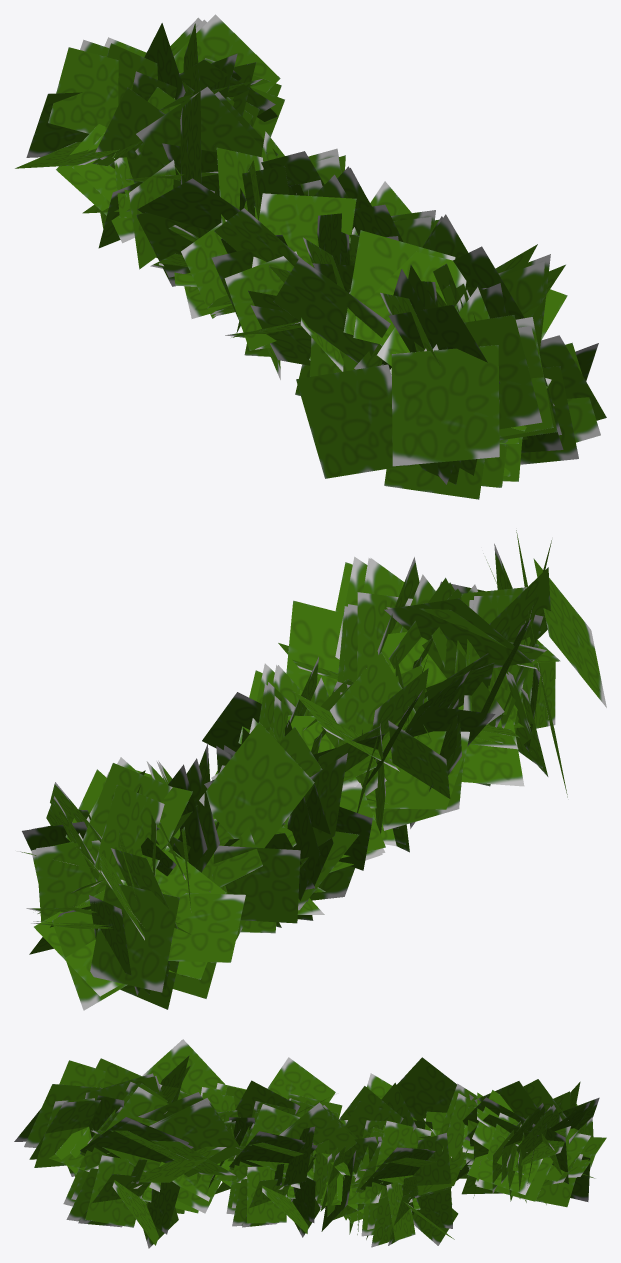
Rendered from Bushes.fbx.
The picture shows the model from 3 angles, top to bottom: view 1: azimuth 30°, elevation 25°; view 2: azimuth 150°, elevation 25°; view 3: azimuth 270°, elevation 25°; orthographic projection. The views are drawn at different scales.
Visible parts, largest first — view 1: Plane.061; view 2: Plane.061; view 3: Plane.061.
Part boxes in pixels (x1=…): Plane.061: x1=15, y1=14, x2=606, y2=499; Plane.061: x1=17, y1=530, x2=606, y2=1010; Plane.061: x1=14, y1=1039, x2=606, y2=1248.
Bounding box in the file's own units: 1627 × 1382 × 4672.
